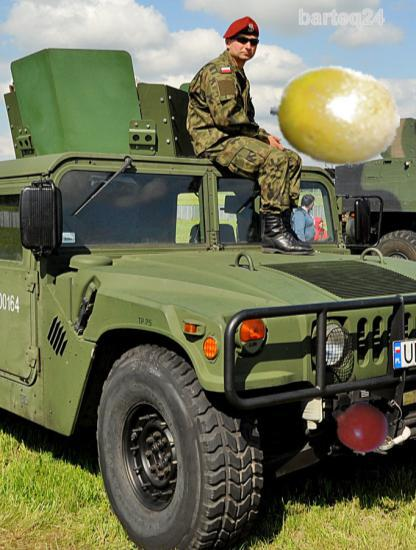Maracuja: (270, 50, 401, 181)
Pomegranate: (329, 395, 390, 456)
